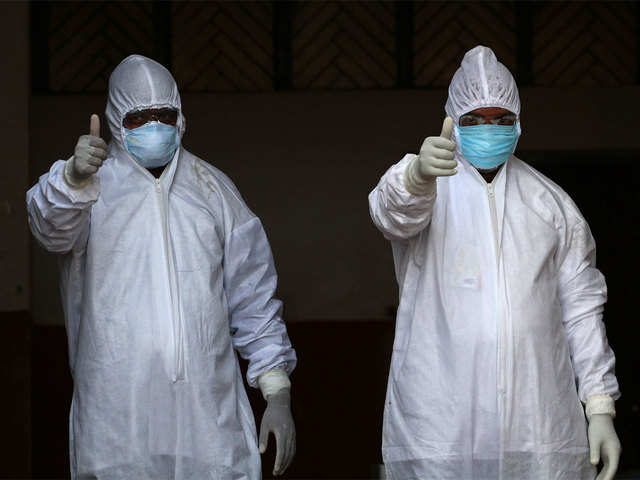Coverall: (387, 153, 603, 480), (49, 147, 255, 480)
Gloves: (393, 120, 459, 207), (252, 369, 298, 475), (578, 393, 625, 480), (66, 113, 110, 192)
Goggles: (124, 105, 180, 133), (456, 107, 519, 131)
with_mask: (124, 115, 184, 169), (459, 119, 518, 169)
